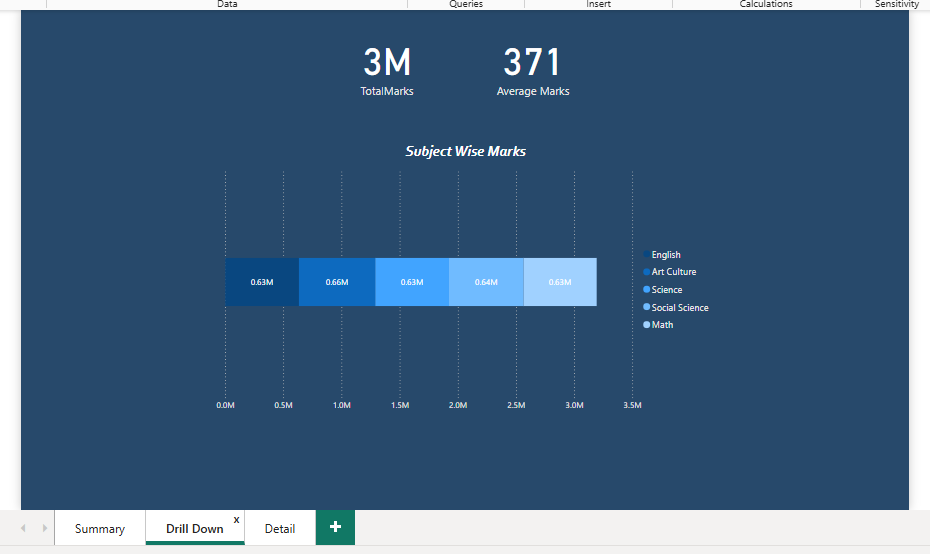

This screenshot's page, from the dashboard's own definition file:
{"tool":"powerbi","page":{"name":"Drill Down","canvas":[1280,720],"ordinal":1},"visuals":[{"type":"barChart","title":"Subject Wise Marks","fields":{"Y":["Sum(bd_students_per.english)","Sum(bd_students_per.art_culture)","Sum(bd_students_per.science)","Sum(bd_students_per.social_science)","Sum(bd_students_per.math)"]},"box":[275,190.1,730.1,397.4],"z":0},{"type":"card","fields":{"Values":["Sum(bd_students_per.TotalMarks)"]},"box":[430.6,11.5,193,133.9],"z":1000},{"type":"card","fields":{"Values":["Avg(bd_students_per.TotalMarks)"]},"box":[640.8,11.5,193,133.9],"z":2000}]}

Visuals, with their boxes on the page's 1280x720 design canvas (x1, y1, x2, y2). These are canvas units, not pixel positions in the 930x554 screenshot, which may show the page scaled, cropped or inside an application window:
"Subject Wise Marks" barChart: bbox=[275, 190, 1005, 588]
card - Sum(bd_students_per.TotalMarks): bbox=[431, 12, 624, 145]
card - Avg(bd_students_per.TotalMarks): bbox=[641, 12, 834, 145]
